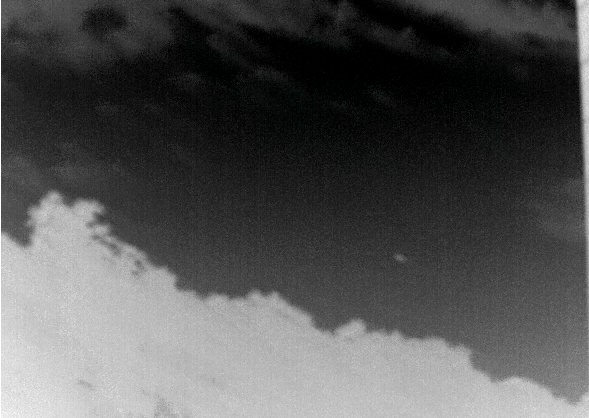dim target: (392, 252, 407, 264)
